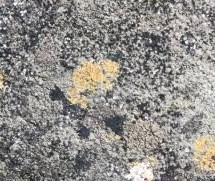Corrosion: (64, 57, 121, 110), (193, 133, 215, 172)
